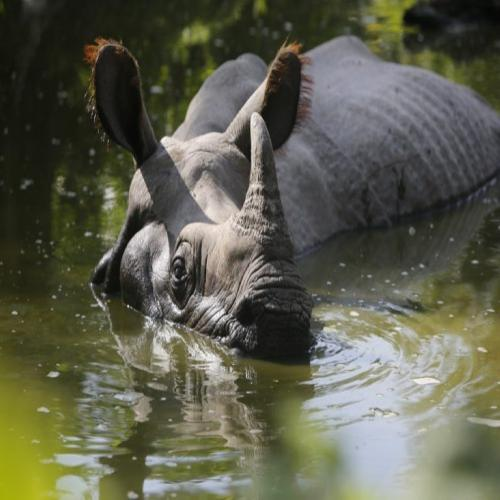rhino-endangered: (90, 34, 500, 362)
